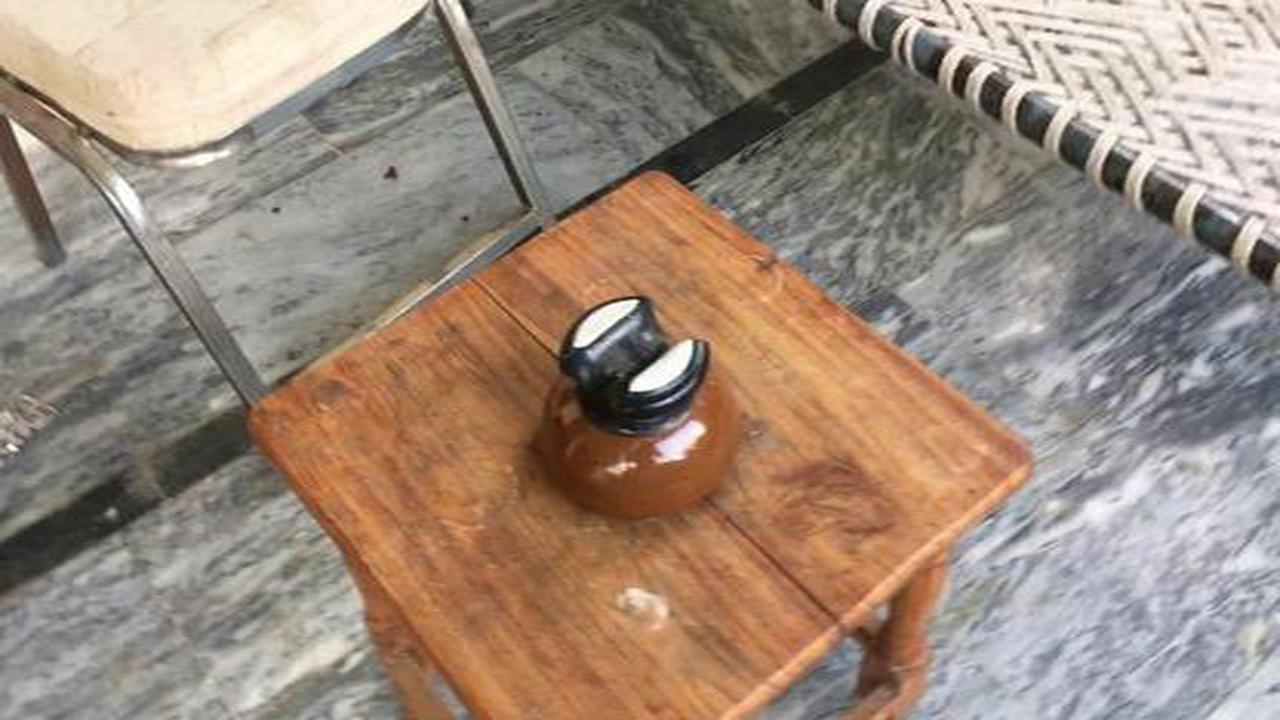insulator_pin: (499, 284, 776, 537)
